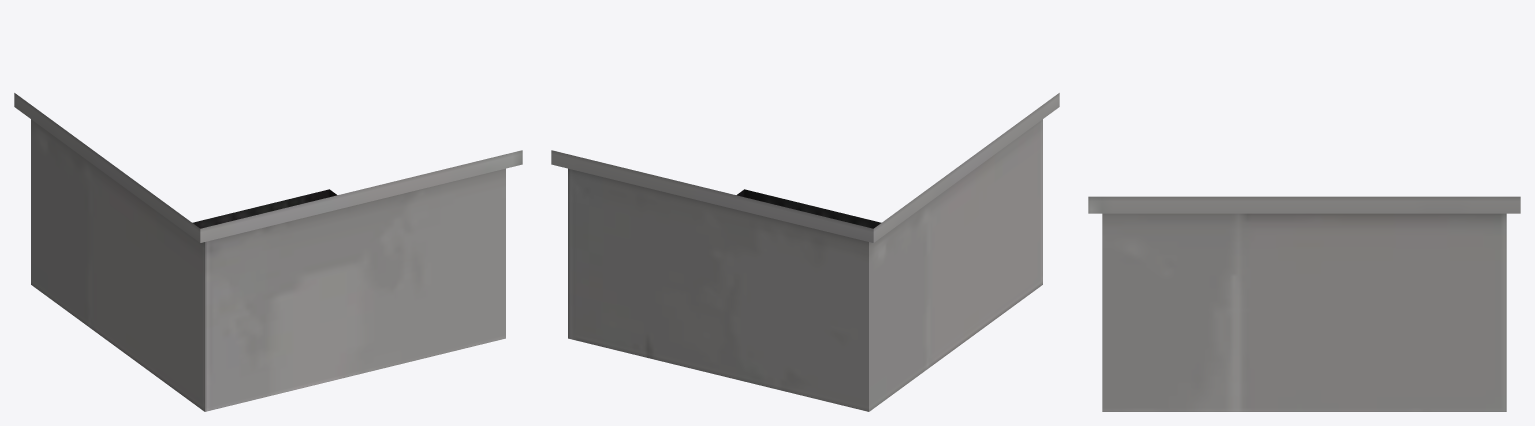
3 views of the same model, side by side, from view 1: azimuth 30°, elevation 25°; view 2: azimuth 150°, elevation 25°; view 3: azimuth 270°, elevation 25° (orthographic). The views are drawn at different scales.
Parts seen in each view (by area): view 1: body0_model0_lod0_mesh0; view 2: body0_model0_lod0_mesh0; view 3: body0_model0_lod0_mesh0.
Part boxes in pixels (bbox=[...]): body0_model0_lod0_mesh0: bbox=[14, 93, 522, 411]; body0_model0_lod0_mesh0: bbox=[551, 93, 1059, 411]; body0_model0_lod0_mesh0: bbox=[1088, 196, 1520, 411].
Size of the model in its own units: 51.04 by 28.8 by 51.04.
1 material, 1 textured.
